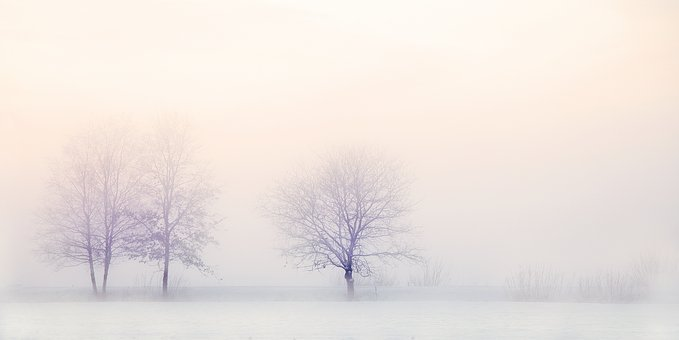tree: (60, 128, 426, 298)
